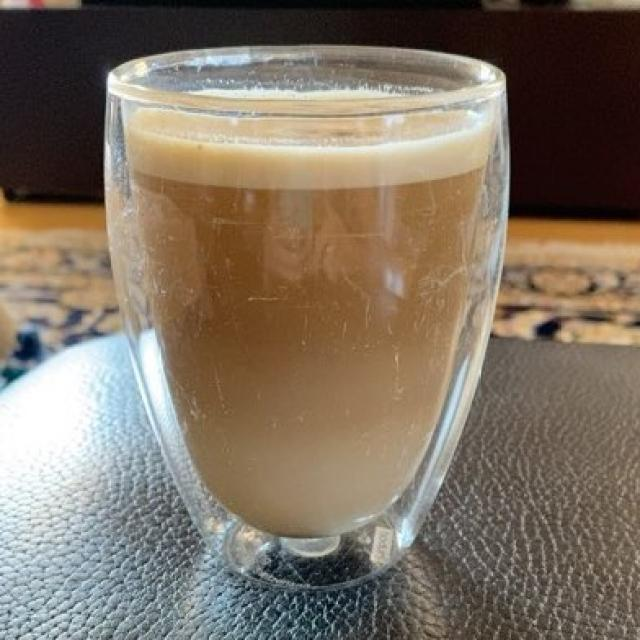coffee: (110, 74, 499, 531)
